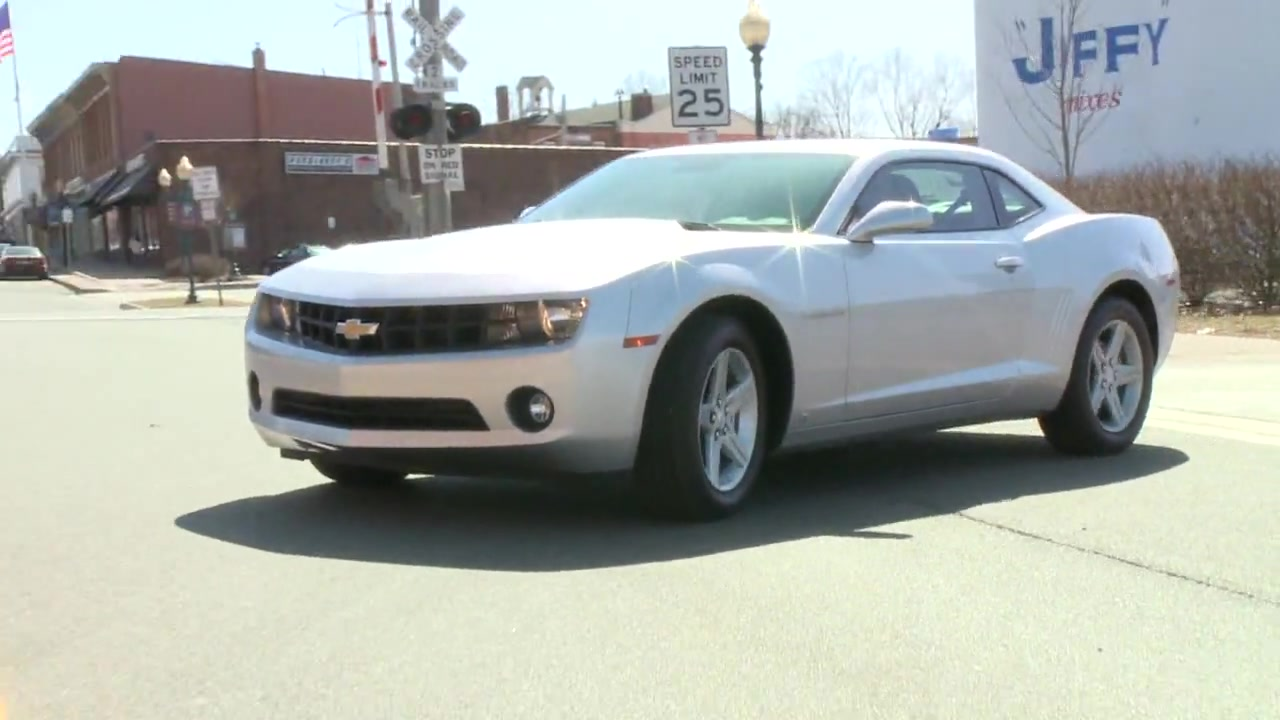car: (235, 133, 1190, 509)
